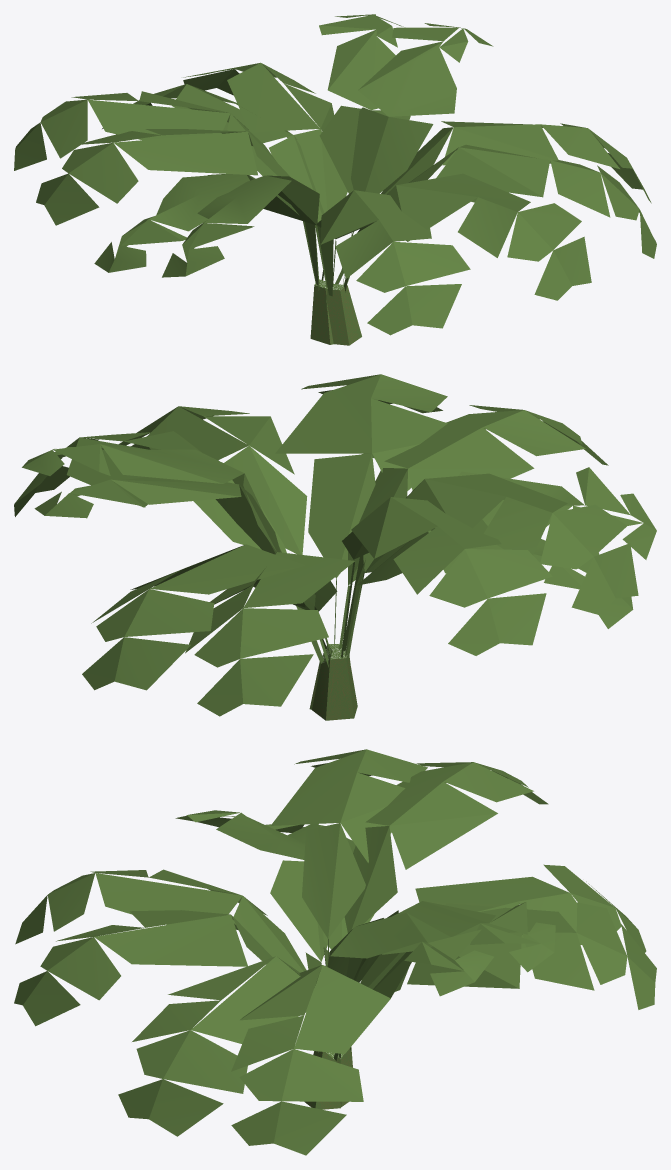
File: Plant_Tropical_03.fbx
The picture shows the model from 3 angles, top to bottom: view 1: azimuth 30°, elevation 25°; view 2: azimuth 150°, elevation 25°; view 3: azimuth 270°, elevation 25°; orthographic projection. The views are drawn at different scales.
Parts seen in each view (by area): view 1: Model; view 2: Model; view 3: Model.
Part boxes in pixels (x1,y1,x2,y2): Model: [14, 14, 656, 345]; Model: [14, 374, 656, 720]; Model: [14, 749, 656, 1155].
Size of the model in its own units: 479 by 191 by 453.
